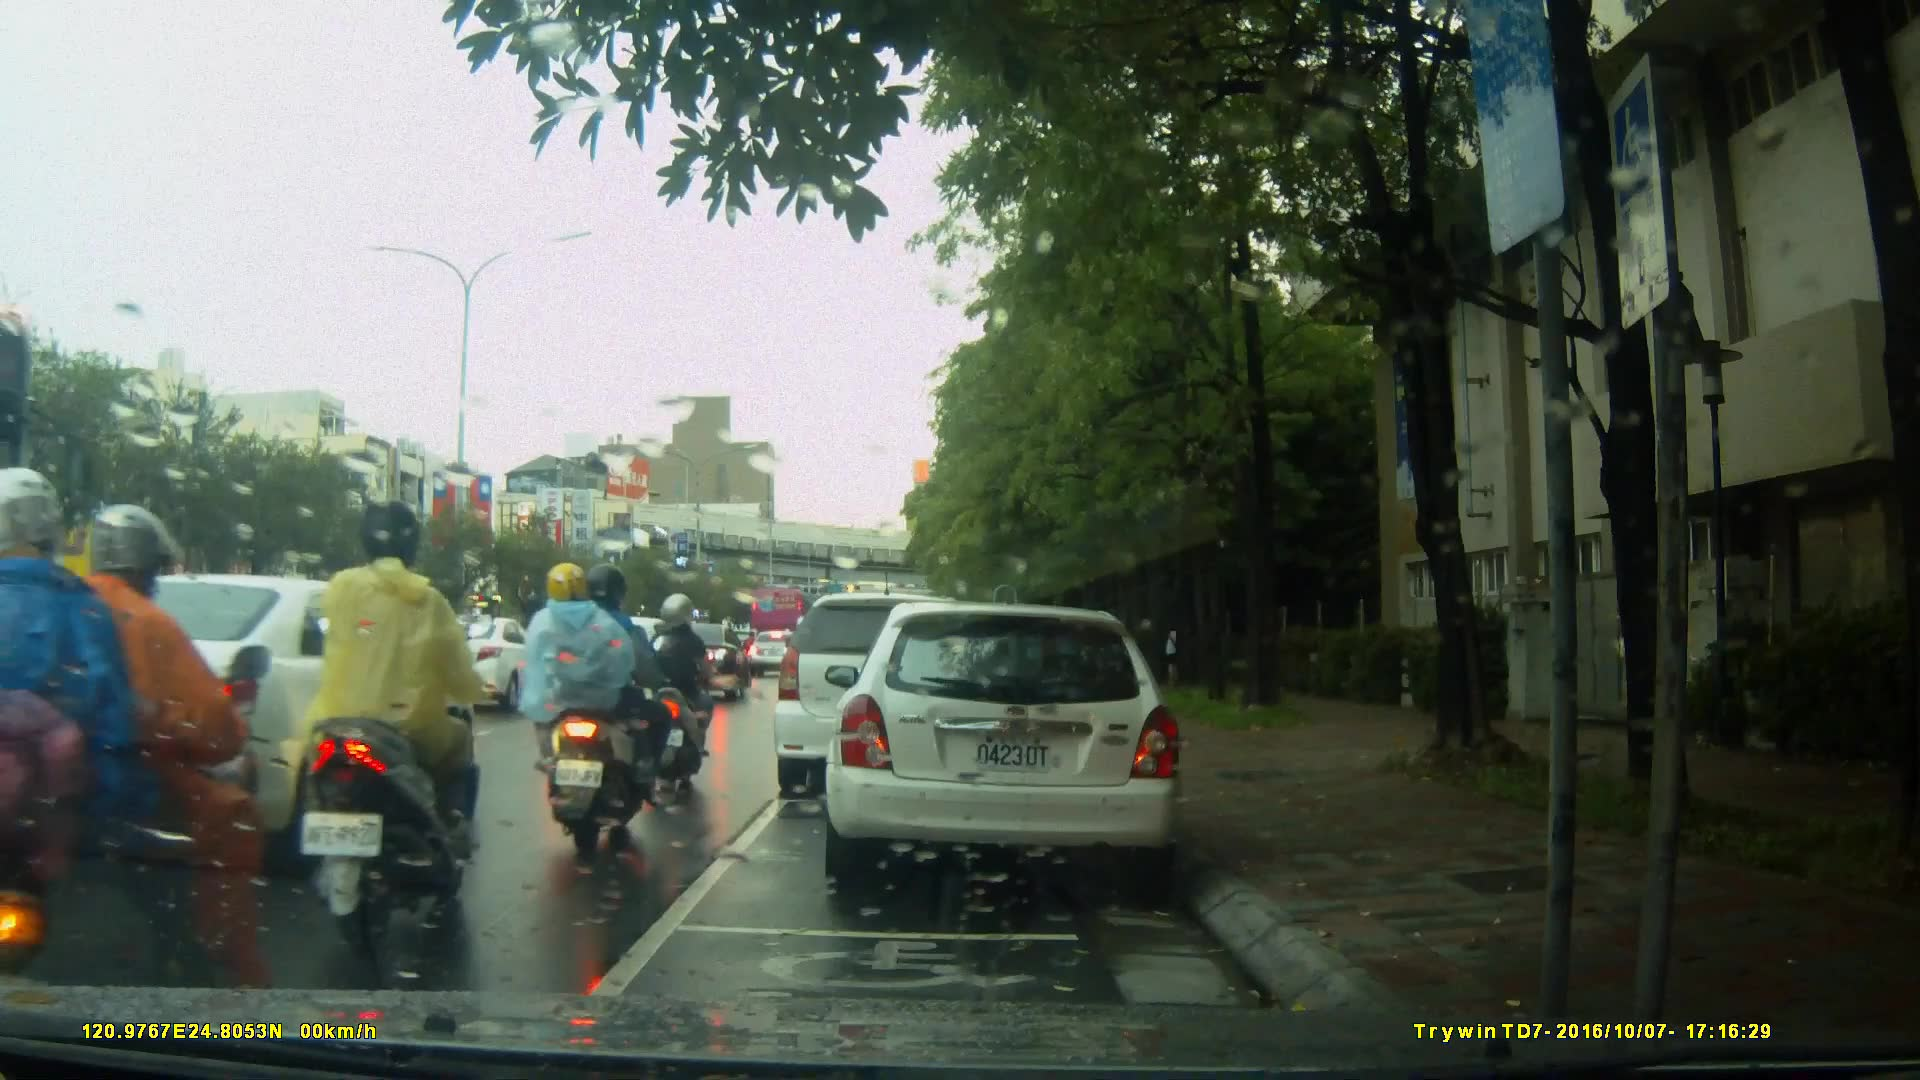rider: (1, 462, 280, 1039), (281, 493, 492, 949), (520, 559, 670, 856), (617, 590, 718, 814)
vehicle: (19, 572, 452, 838), (835, 594, 1194, 898), (776, 590, 1026, 784), (642, 625, 755, 704)
